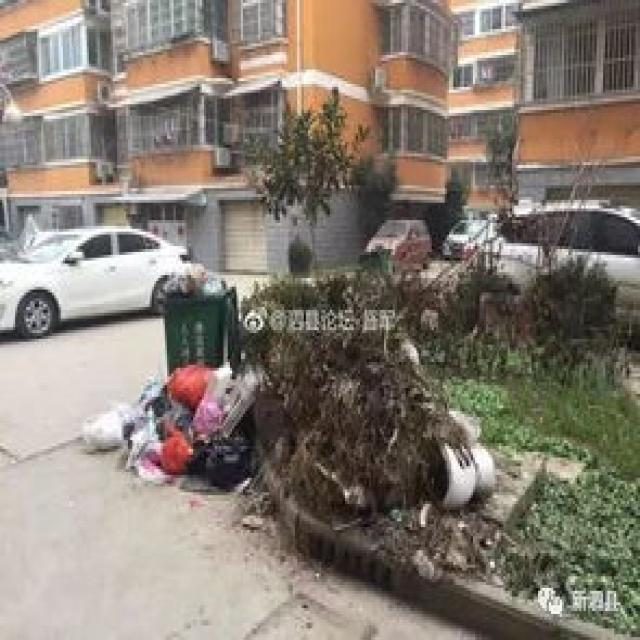garbage: (78, 356, 252, 487)
overflow: (158, 261, 222, 365)
